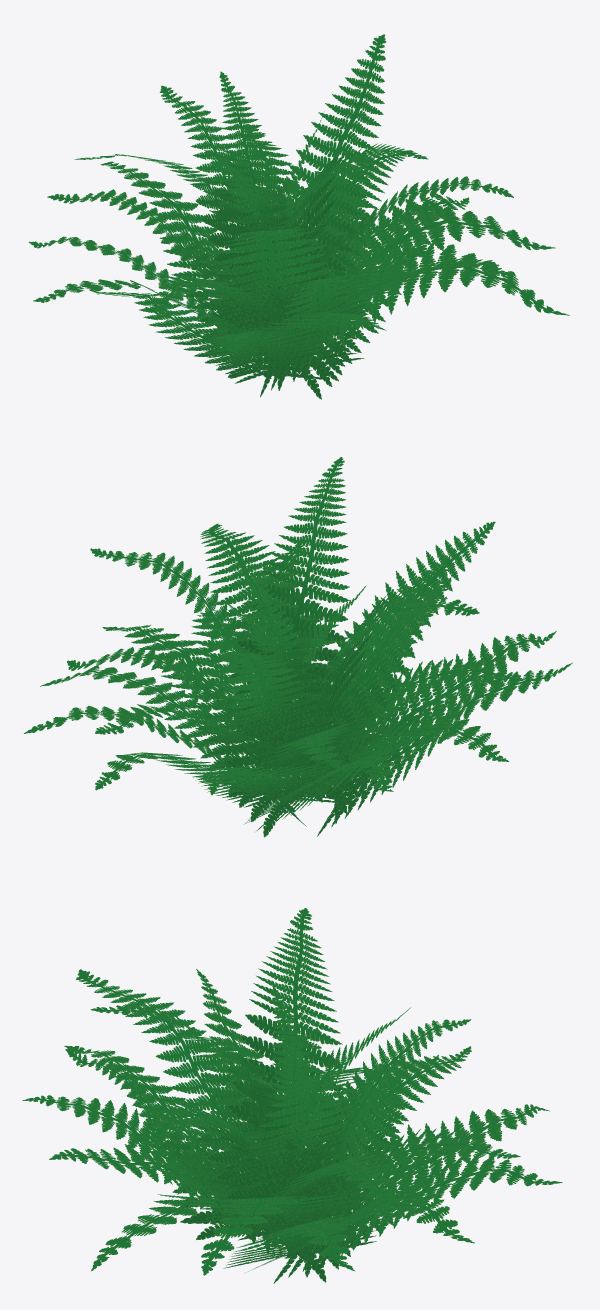
File: PT_Fern_01.fbx
3 views of the same model, one above another, from view 1: azimuth 30°, elevation 25°; view 2: azimuth 150°, elevation 25°; view 3: azimuth 270°, elevation 25° (orthographic).
Parts seen in each view (by area): view 1: PT_Fern_01_LOD0; view 2: PT_Fern_01_LOD0; view 3: PT_Fern_01_LOD0.
Boxes of the visible parts, x1,y1,x2,y2 form: PT_Fern_01_LOD0: (29,34,569,399); PT_Fern_01_LOD0: (24,457,572,837); PT_Fern_01_LOD0: (22,908,562,1283).
Size of what is drawn, in the model's own units: 135 by 77.44 by 133.
